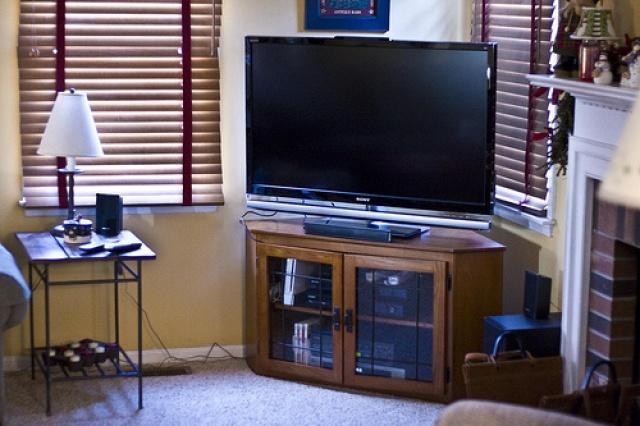AIO PC-Monitor-TV: (242, 34, 499, 231)
